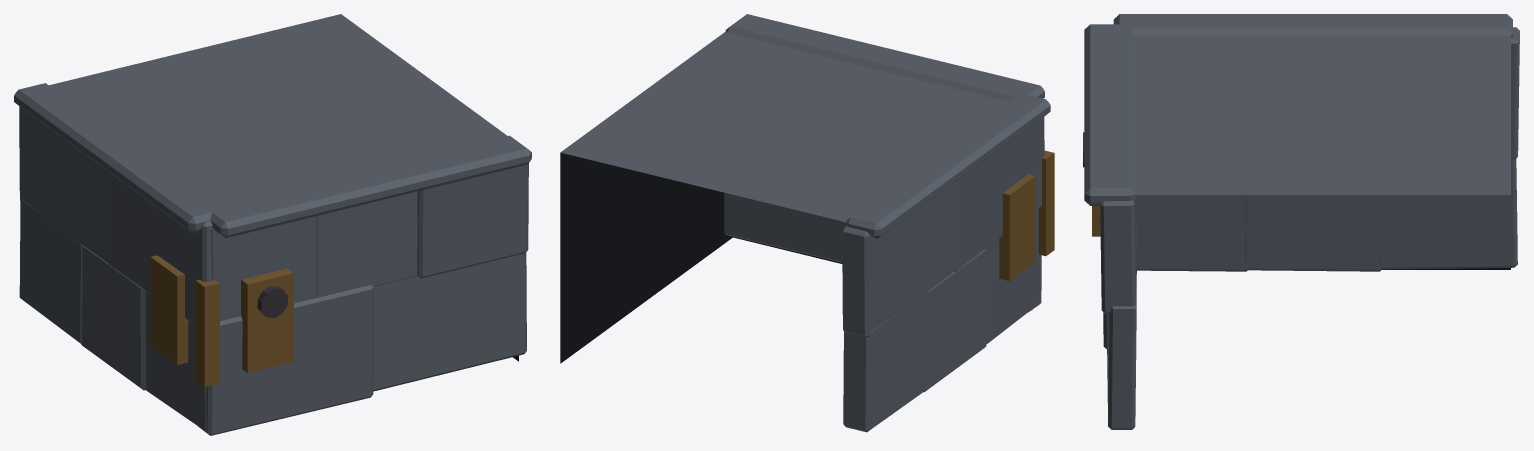
File: SM_Terrain_Dvergr_08_Corner.fbx
3 views of the same model, side by side, from view 1: azimuth 30°, elevation 25°; view 2: azimuth 150°, elevation 25°; view 3: azimuth 270°, elevation 25° (orthographic). The views are drawn at different scales.
Visible parts, largest first — view 1: SM_Terrain_Dvergr_08_Corner_Deck, SM_Terrain_Dvergr_08_Corner_PlateY01, SM_Terrain_Dvergr_08_Corner_PlateY00, SM_Terrain_Dvergr_08_Corner_LipY, SM_Terrain_Dvergr_08_Corner_PlateY12, SM_Terrain_Dvergr_08_Corner_PlateY11, SM_Terrain_Dvergr_08_Corner_PlateX11, SM_Terrain_Dvergr_08_Corner_LipX, SM_Terrain_Dvergr_08_Corner_PlateX10, SM_Terrain_Dvergr_08_Corner_PlateY10, SM_Terrain_Dvergr_08_Corner_PlateX01, SM_Terrain_Dvergr_08_Corner_PlateX02 (+5 smaller); view 2: SM_Terrain_Dvergr_08_Corner_Deck, SM_Terrain_Dvergr_08_Corner_PlateX11, SM_Terrain_Dvergr_08_Corner_PlateX02, SM_Terrain_Dvergr_08_Corner_LipX, SM_Terrain_Dvergr_08_Corner_LipY, SM_Terrain_Dvergr_08_Corner_PlateX10, SM_Terrain_Dvergr_08_Corner_PlateX01, SM_Terrain_Dvergr_08_Corner_PlateY01, SM_Terrain_Dvergr_08_Corner_PlateX00, SM_Terrain_Dvergr_08_Corner_BracketX, SM_Terrain_Dvergr_08_Corner_BracketEdge; view 3: SM_Terrain_Dvergr_08_Corner_Deck, SM_Terrain_Dvergr_08_Corner_PlateX02, SM_Terrain_Dvergr_08_Corner_PlateX01, SM_Terrain_Dvergr_08_Corner_LipY, SM_Terrain_Dvergr_08_Corner_LipX, SM_Terrain_Dvergr_08_Corner_PlateX00, SM_Terrain_Dvergr_08_Corner_PlateY12, SM_Terrain_Dvergr_08_Corner_PlateY01, SM_Terrain_Dvergr_08_Corner_PlateX11.
Part boxes in pixels (x1,y1,x2,y2): SM_Terrain_Dvergr_08_Corner_Deck: (49,14,518,361); SM_Terrain_Dvergr_08_Corner_PlateY01: (373,252,526,391); SM_Terrain_Dvergr_08_Corner_PlateY00: (197,284,373,435); SM_Terrain_Dvergr_08_Corner_LipY: (208,135,531,238); SM_Terrain_Dvergr_08_Corner_PlateY12: (417,163,528,278); SM_Terrain_Dvergr_08_Corner_PlateY11: (316,191,417,297); SM_Terrain_Dvergr_08_Corner_PlateX11: (19,106,108,263); SM_Terrain_Dvergr_08_Corner_LipX: (14,83,219,232); SM_Terrain_Dvergr_08_Corner_PlateX10: (108,171,212,324); SM_Terrain_Dvergr_08_Corner_PlateY10: (211,216,316,320); SM_Terrain_Dvergr_08_Corner_PlateX01: (81,245,145,390); SM_Terrain_Dvergr_08_Corner_PlateX02: (19,198,82,343); SM_Terrain_Dvergr_08_Corner_Deck: (560,31,1007,363); SM_Terrain_Dvergr_08_Corner_PlateX11: (842,181,955,337); SM_Terrain_Dvergr_08_Corner_PlateX02: (843,291,928,432); SM_Terrain_Dvergr_08_Corner_LipX: (846,93,1050,238); SM_Terrain_Dvergr_08_Corner_LipY: (725,14,1044,101); SM_Terrain_Dvergr_08_Corner_PlateX10: (955,117,1044,271); SM_Terrain_Dvergr_08_Corner_PlateX01: (924,249,986,392); SM_Terrain_Dvergr_08_Corner_PlateY01: (724,192,846,262); SM_Terrain_Dvergr_08_Corner_PlateX00: (985,208,1040,344); SM_Terrain_Dvergr_08_Corner_BracketX: (999,174,1035,280); SM_Terrain_Dvergr_08_Corner_BracketEdge: (1038,150,1054,256); SM_Terrain_Dvergr_08_Corner_Deck: (1132,35,1510,269); SM_Terrain_Dvergr_08_Corner_PlateX02: (1380,158,1517,269); SM_Terrain_Dvergr_08_Corner_PlateX01: (1245,195,1382,271); SM_Terrain_Dvergr_08_Corner_LipY: (1084,24,1135,205); SM_Terrain_Dvergr_08_Corner_LipX: (1113,14,1512,38); SM_Terrain_Dvergr_08_Corner_PlateX00: (1136,195,1247,271); SM_Terrain_Dvergr_08_Corner_PlateY12: (1100,200,1136,313); SM_Terrain_Dvergr_08_Corner_PlateY01: (1107,264,1136,429); SM_Terrain_Dvergr_08_Corner_PlateX11: (1511,27,1519,159).
Size of the model in its own units: 2.18 by 1.38 by 2.21.
